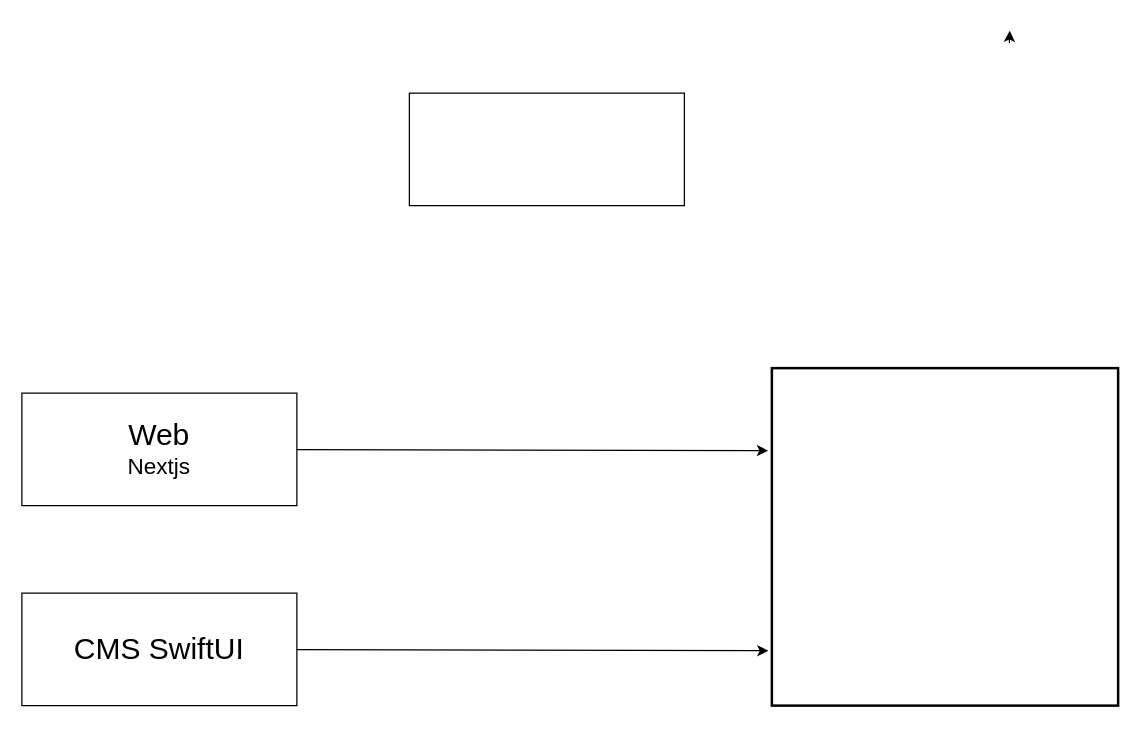
The diagram is 1141 pixels wide and 729 high, and some of its shapes have lost their labels. The box of each missing label's shape, as (x1, y1, x2, y2) in pixels:
Gateway federation graphql node: (408, 92, 684, 206)
internationalization-api node graphql redis mongo: (770, 366, 1119, 706)
